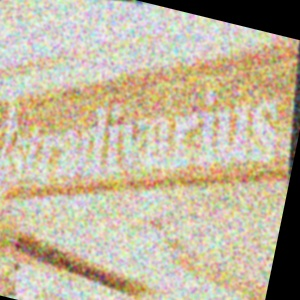stradivarius: (30, 83, 296, 157)
